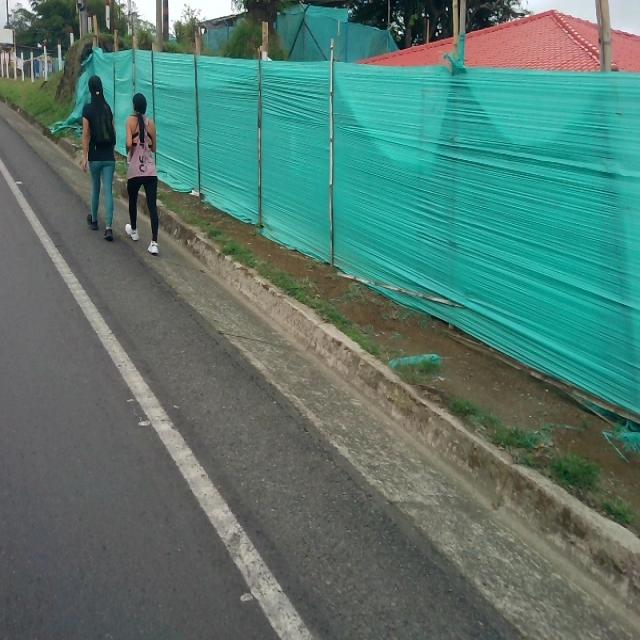DITCH: (1, 12, 639, 639), (1, 97, 638, 638)
